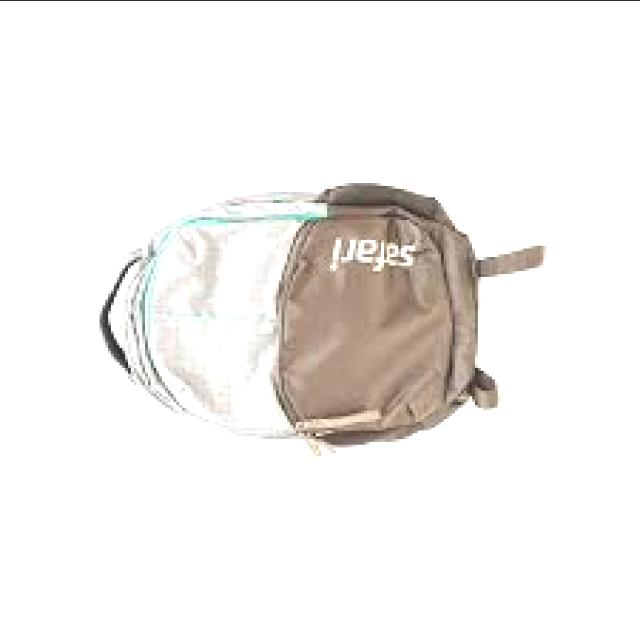backpack: (98, 183, 544, 459)
